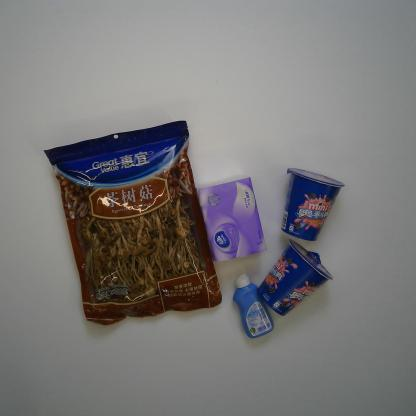Dessert: (258, 238, 334, 316), (276, 165, 345, 244)
Dried Food: (42, 119, 224, 326)
Personal Hygiene: (230, 271, 274, 340)
Tissue: (197, 174, 268, 264)
